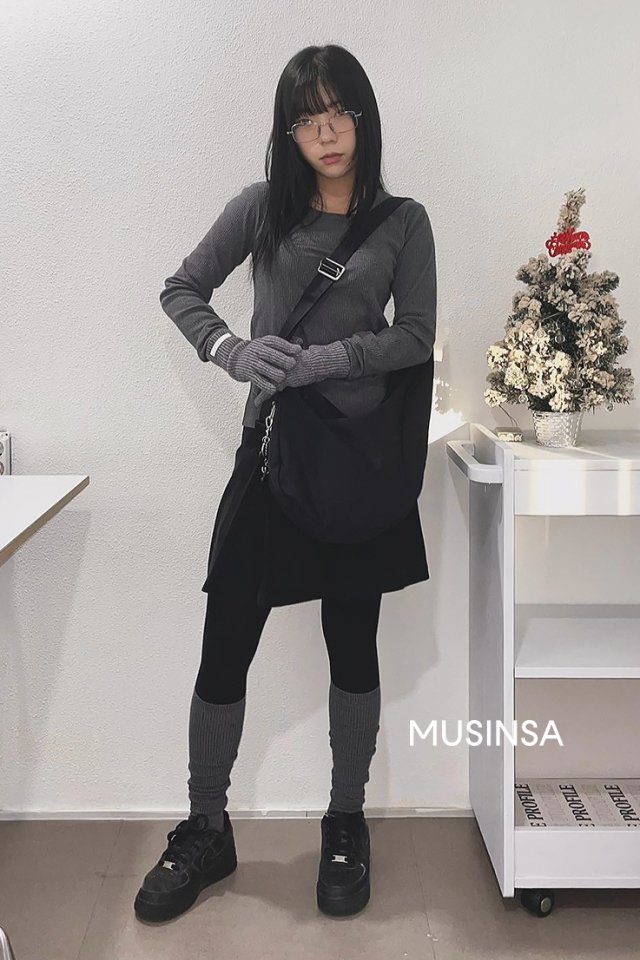Bag: (266, 196, 434, 539)
Glasses: (282, 107, 378, 141)
Shoes: (132, 808, 389, 920)
Skirt: (195, 424, 443, 599)
Top: (167, 176, 441, 421)
